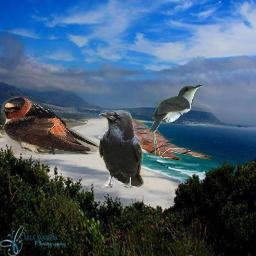Crow: (98, 110, 144, 188)
Cuckoo: (113, 116, 214, 165), (148, 84, 204, 134)
Swallow: (1, 96, 101, 155)
